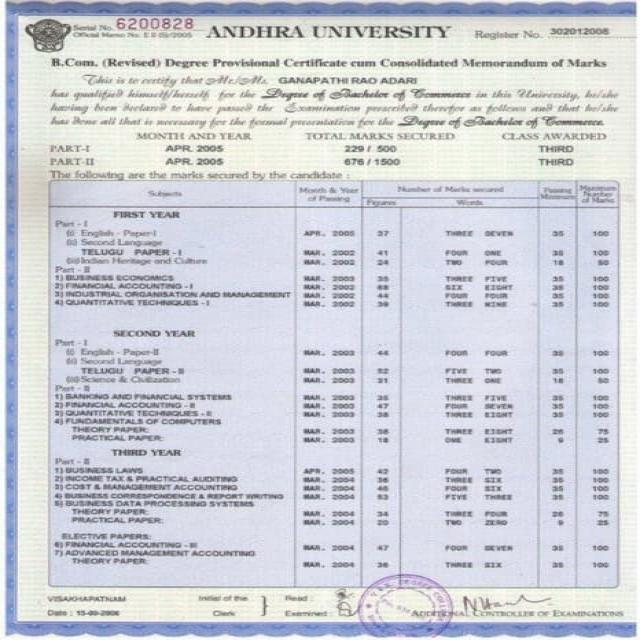signature: (456, 590, 572, 616)
stamp: (358, 573, 451, 640)
